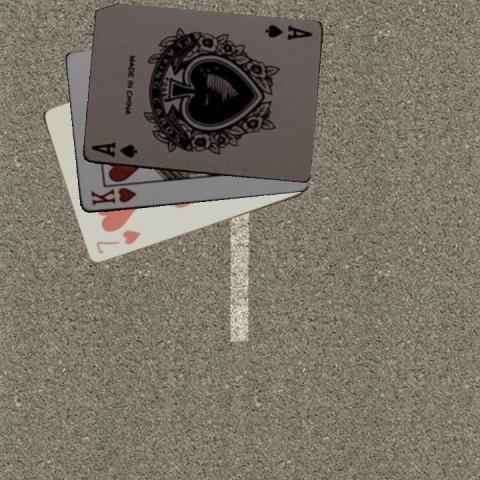7h: (93, 227, 141, 256)
As: (262, 21, 314, 42), (88, 139, 139, 160)
Kh: (88, 184, 138, 206)
